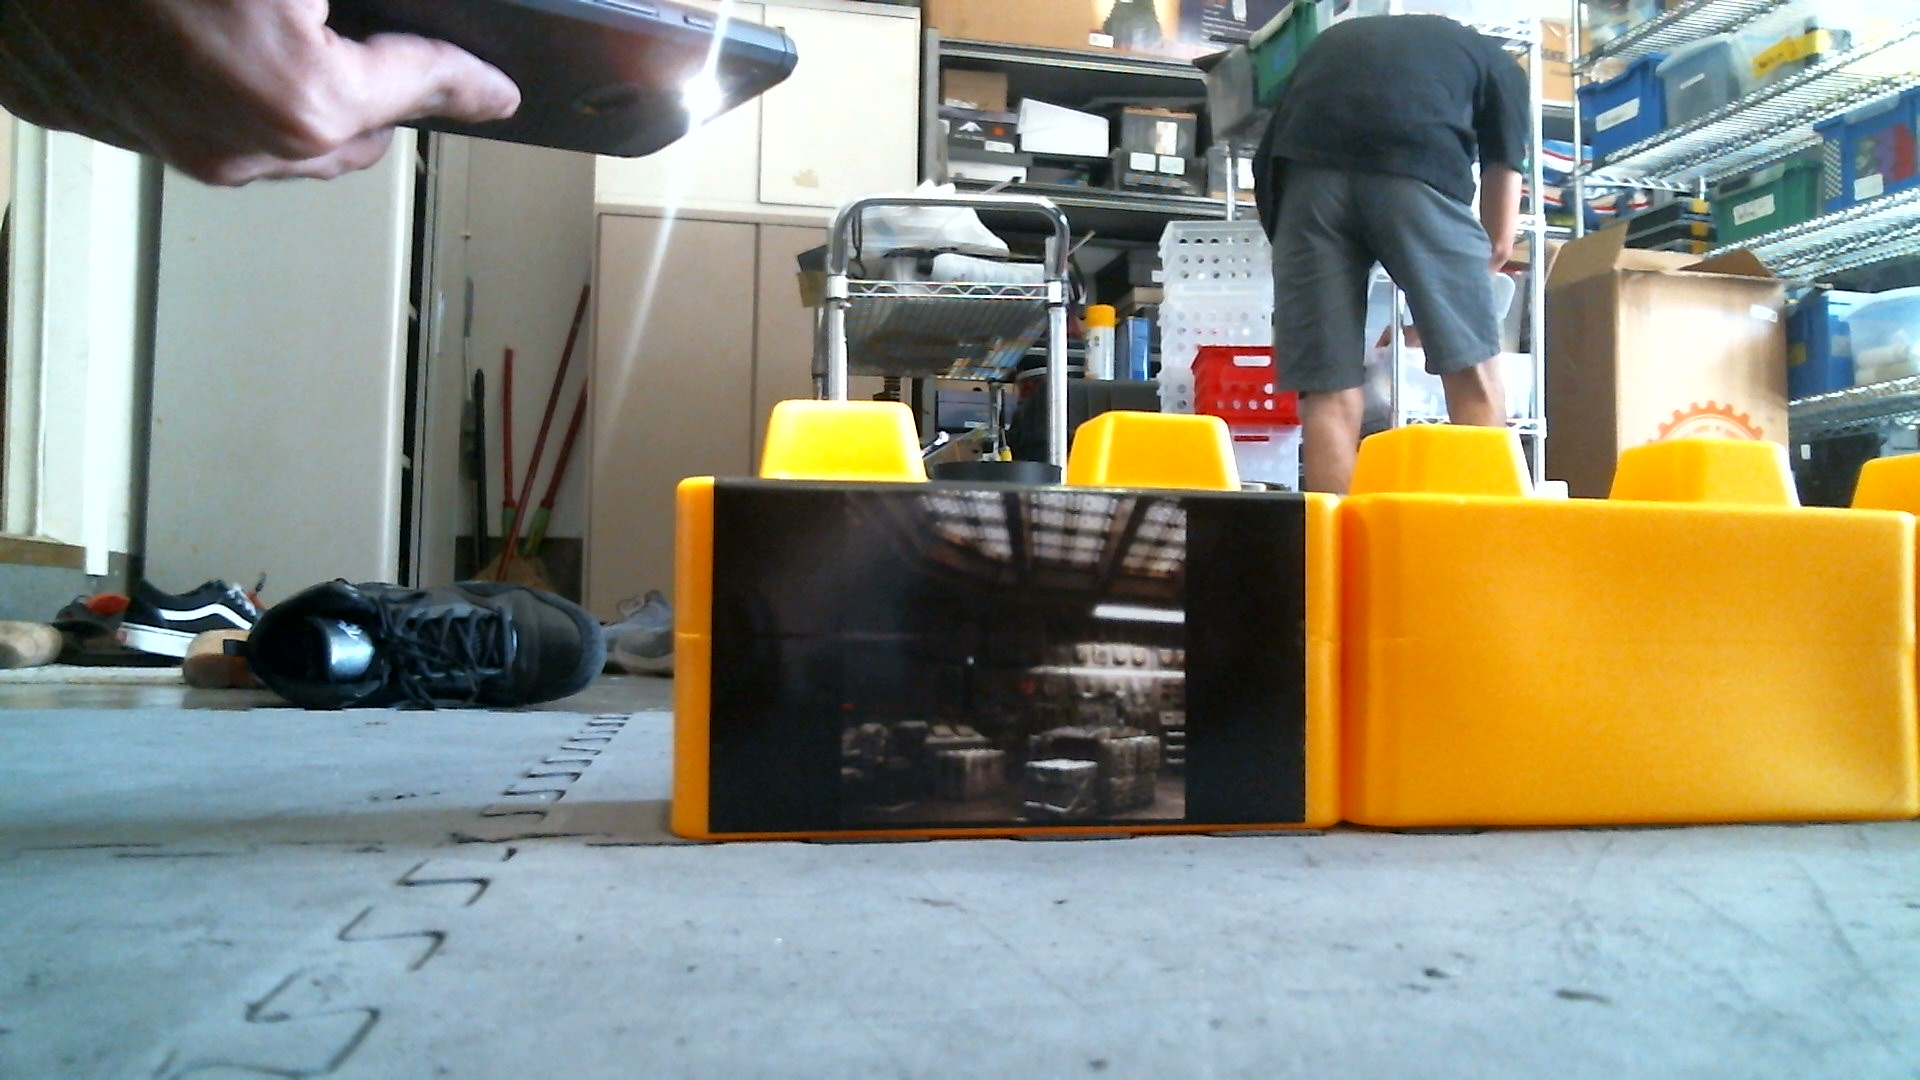skystone: (662, 392, 1346, 833)
stone: (1342, 419, 1920, 837)
